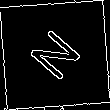N_SE: (23, 23, 87, 87)
